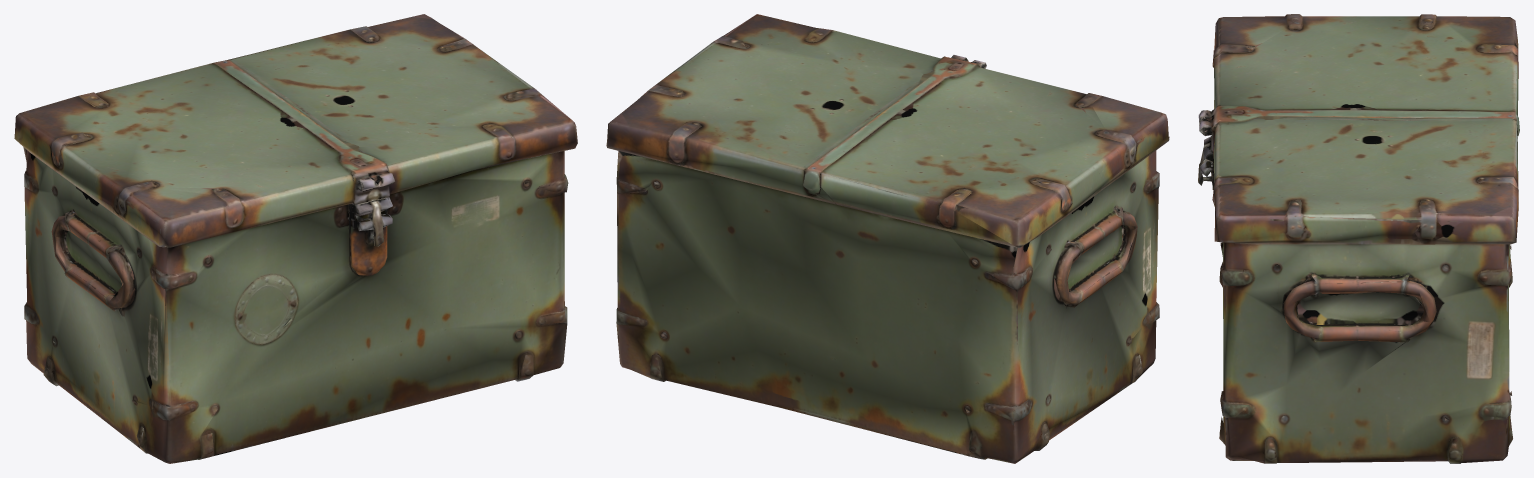
Rendered from Meshy_AI_Rustic_Military_Stora_0513115458_texture.fbx.
3 views of the same model, side by side, from view 1: azimuth 30°, elevation 25°; view 2: azimuth 150°, elevation 25°; view 3: azimuth 270°, elevation 25° (orthographic).
Visible parts, largest first — view 1: Mesh1.0; view 2: Mesh1.0; view 3: Mesh1.0.
Part boxes in pixels (box(x1,y1,x2,y2)): Mesh1.0: box(14, 14, 577, 463); Mesh1.0: box(606, 14, 1169, 463); Mesh1.0: box(1198, 14, 1519, 463).
Size of the model in its own units: 191 by 111 by 125.
1 material, 1 textured.
